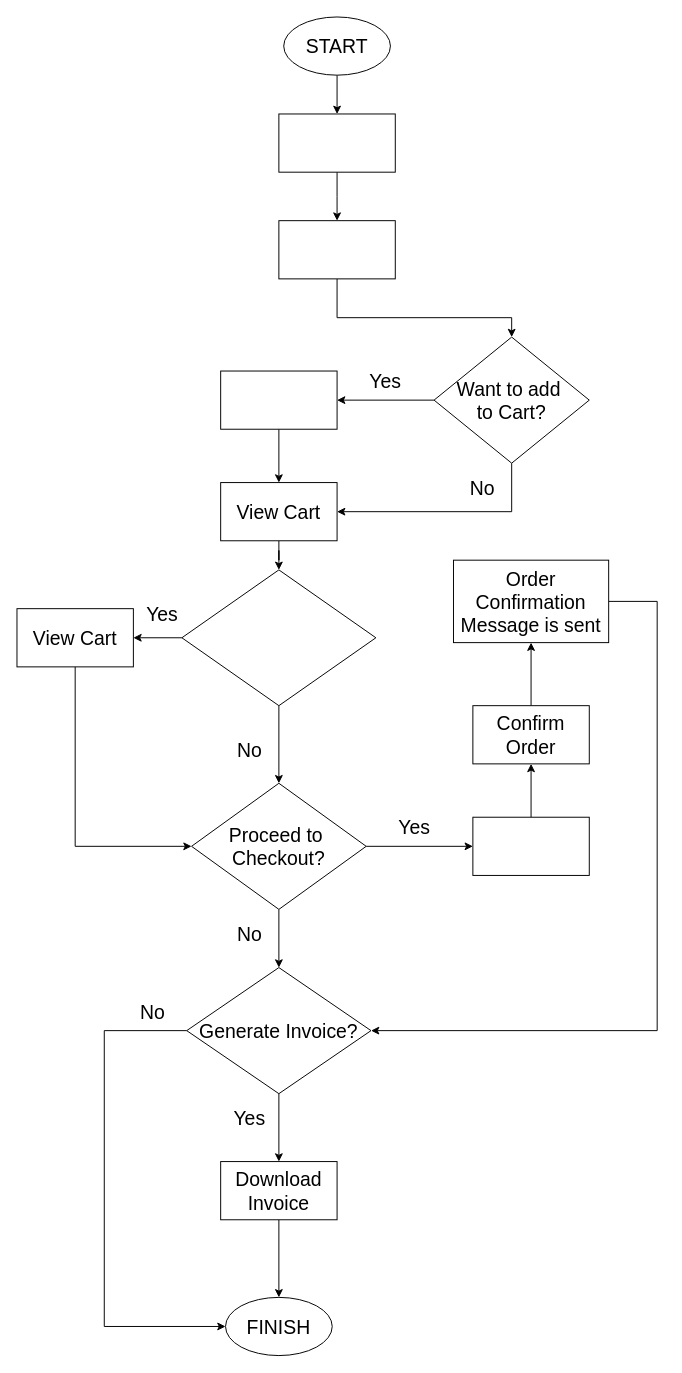
This 682x1373 diagram has some shape labels left out. The shapes that lost their labels are listed below. From the top down, each one's centre as x and y in pixels, then its label:
At pixel 336 142: "User Logins into EMWIS".
At pixel 336 249: "View Mobiles".
At pixel 278 399: "Add Mobiles to Cart".
At pixel 278 637: "Want to remove from Cart?".
At pixel 530 845: "Enter User Details".
